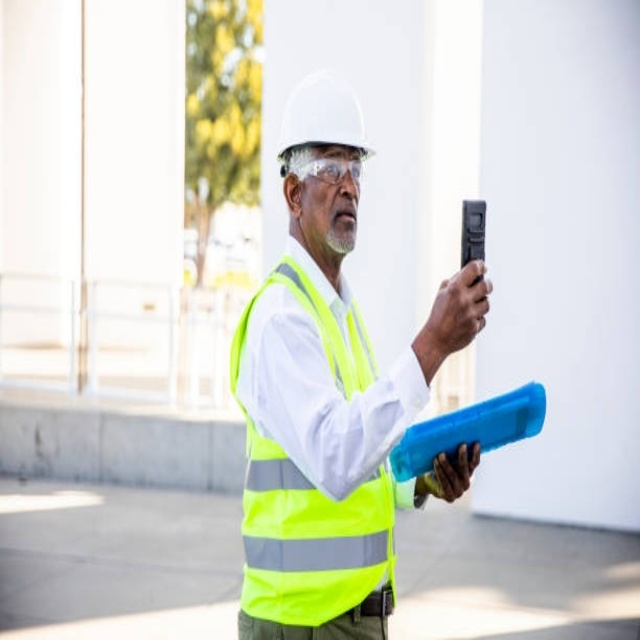Gafas: (288, 158, 367, 188)
Sin_guantes: (426, 258, 493, 361), (424, 438, 482, 505)
Sin_mascara: (325, 201, 358, 246)
